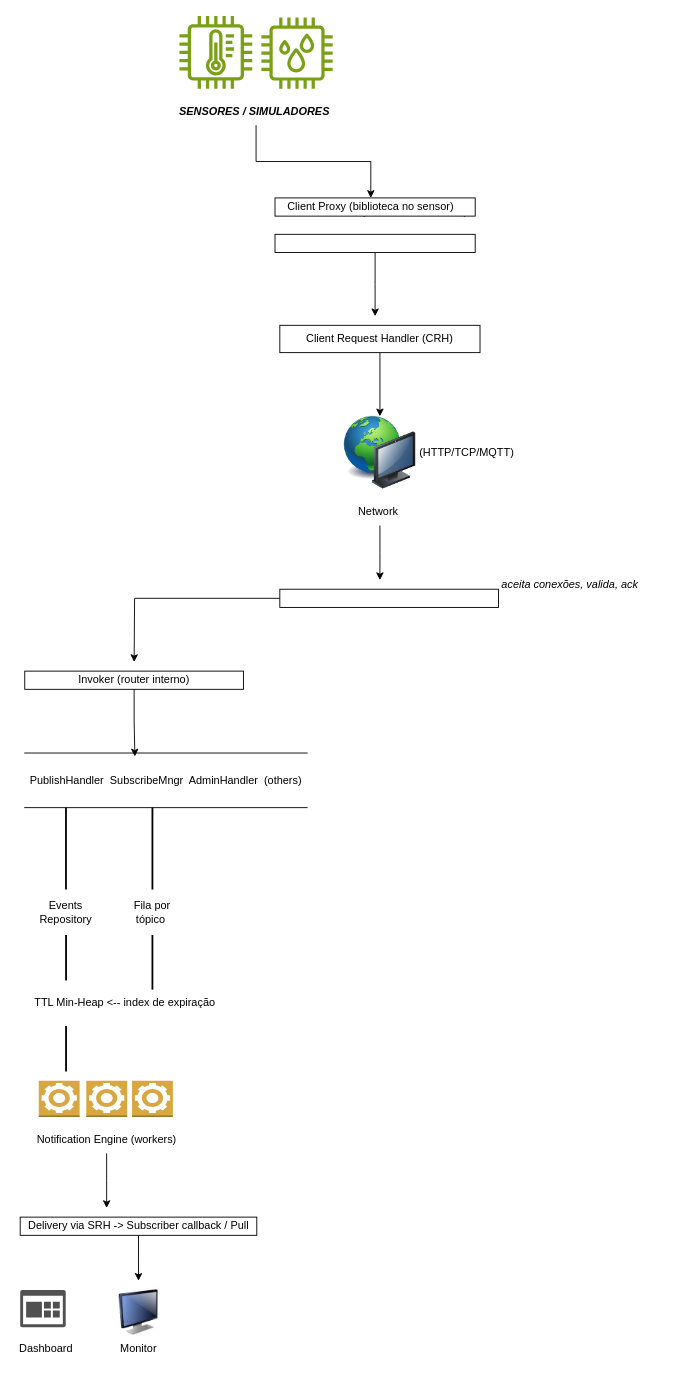
This 682x1378 diagram has some shape labels left out. Here are the shapes that lost their labels. From the top down, the centre of each, then its label:
[374,243]: Requestor (serializa & cria Invocation)
[388,597]: Server Request Handler (SRH)
